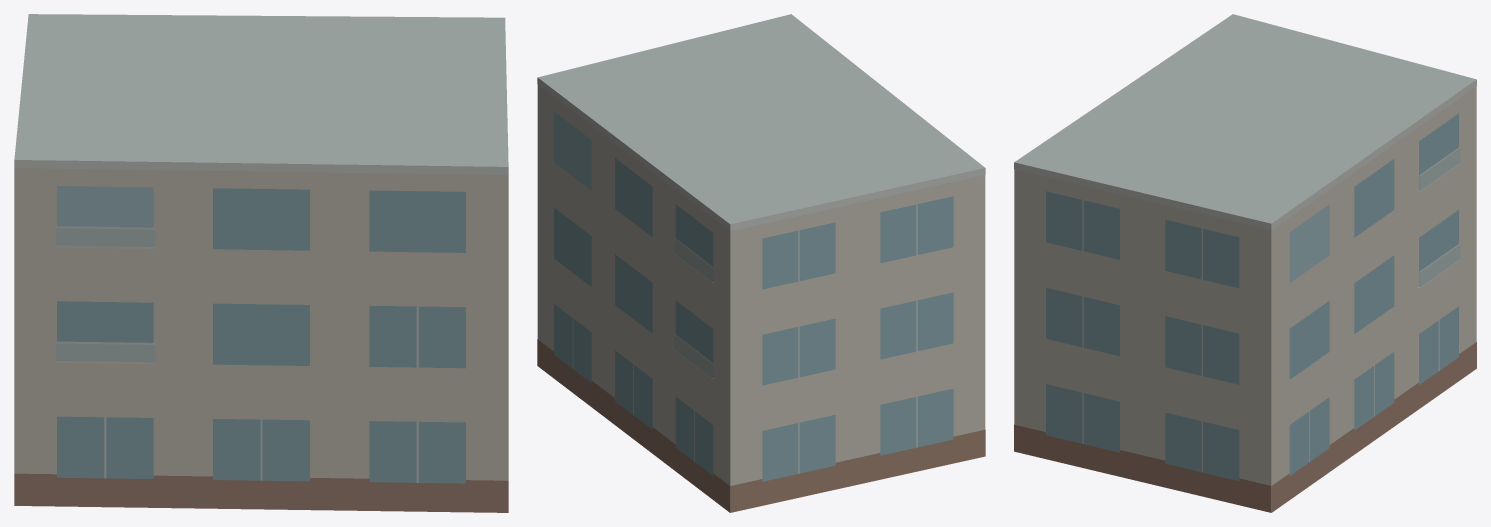
The model's file is survey-upis-32846944.glb.
3 renders of one model, left to right at view 1: azimuth 30°, elevation 25°; view 2: azimuth 150°, elevation 25°; view 3: azimuth 270°, elevation 25°, orthographic. The views are drawn at different scales.
Visible parts, largest first — view 1: survey-upis-32846944.tmp; view 2: survey-upis-32846944.tmp; view 3: survey-upis-32846944.tmp.
Part boxes in pixels (<box>): survey-upis-32846944.tmp: <box>14,14,508,512</box>; survey-upis-32846944.tmp: <box>537,14,985,512</box>; survey-upis-32846944.tmp: <box>1014,14,1476,512</box>.
Bounding box in the file's own units: 16.02 × 10.3 × 14.94.
